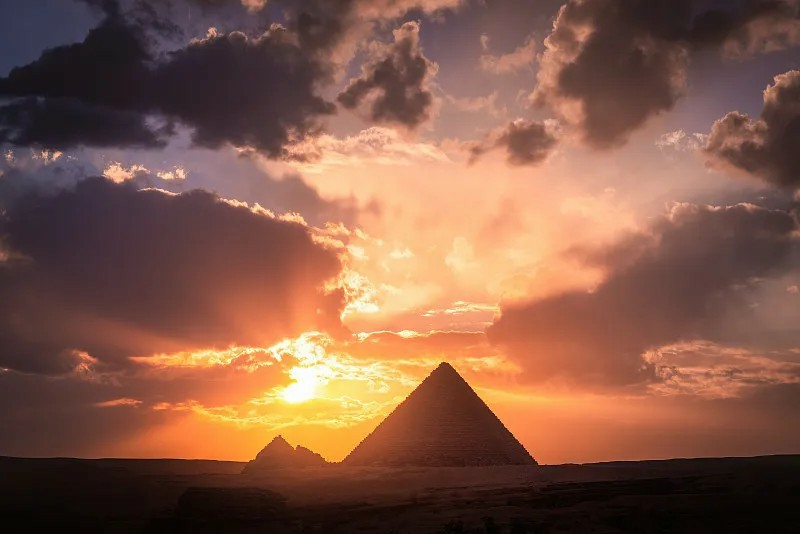Pyramid: (341, 362, 542, 467)
